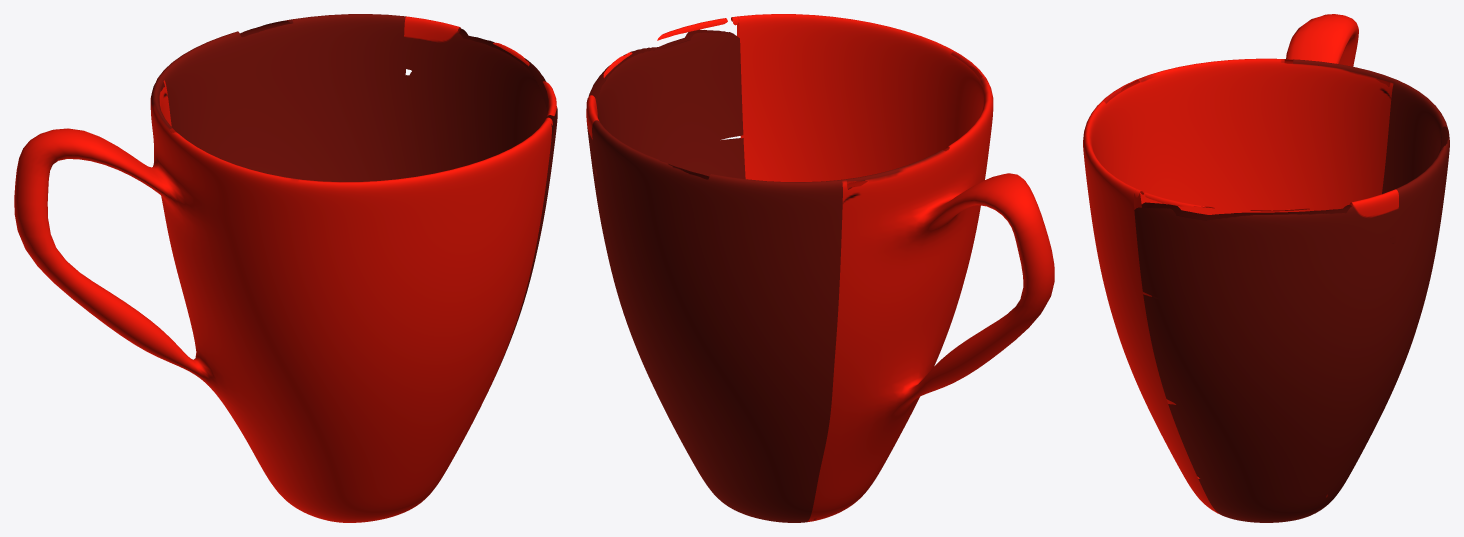
Rendered from CoffeeCup.fbx.
3 renders of one model, left to right at view 1: azimuth 30°, elevation 25°; view 2: azimuth 150°, elevation 25°; view 3: azimuth 270°, elevation 25°, orthographic. The views are drawn at different scales.
Visible parts, largest first — view 1: Cube; view 2: Cube; view 3: Cube.
Part boxes in pixels (x1=…): Cube: x1=14, y1=14, x2=557, y2=522; Cube: x1=586, y1=14, x2=1054, y2=522; Cube: x1=1083, y1=14, x2=1449, y2=522.
Size of the model in its own units: 242 by 200 by 177.
Materials: 1 (1 with a texture image).
